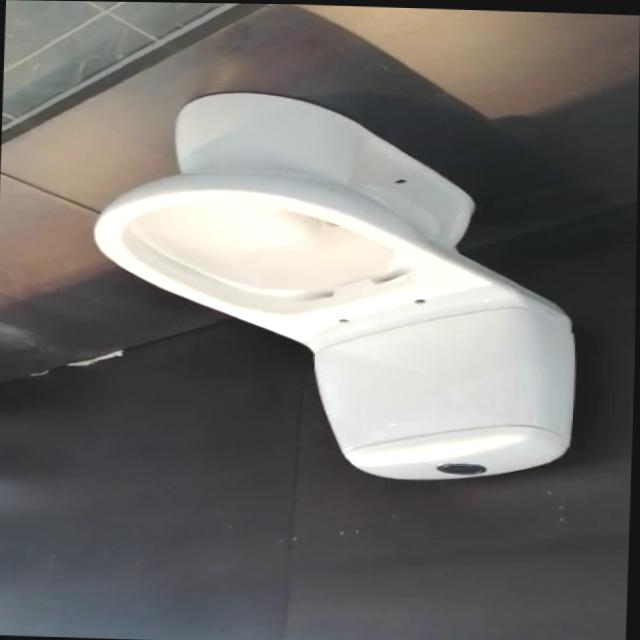toilet: (84, 87, 585, 485)
